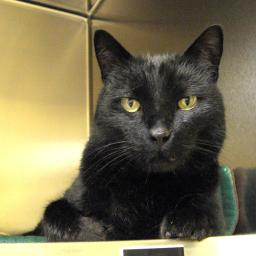catnose: (149, 128, 172, 148)
